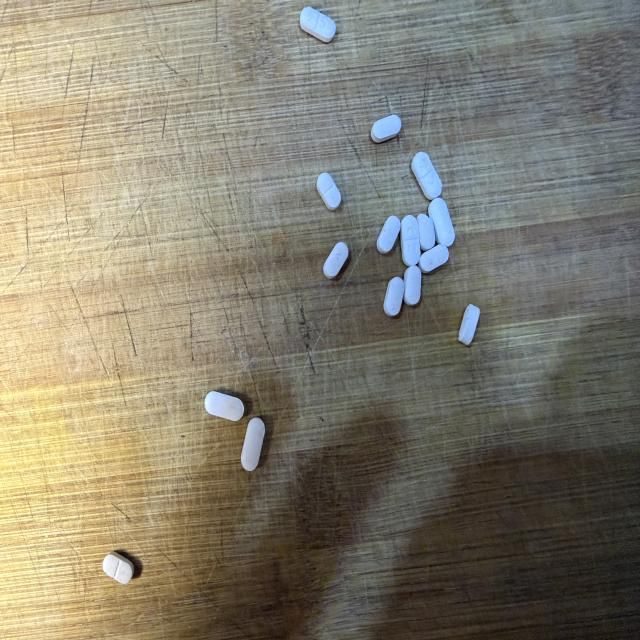pill: (412, 152, 442, 199), (241, 417, 265, 471), (428, 198, 454, 246), (300, 7, 335, 42), (205, 392, 244, 421), (401, 215, 420, 266), (103, 552, 133, 584), (323, 242, 349, 278), (317, 173, 341, 210), (377, 216, 400, 253), (459, 305, 480, 345), (419, 245, 449, 273), (371, 115, 401, 142), (384, 277, 404, 316), (403, 266, 422, 306), (417, 214, 435, 251)
